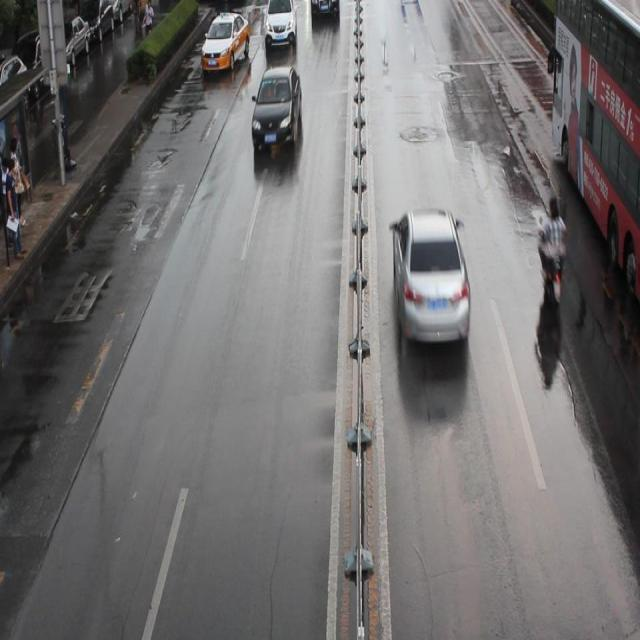car: (389, 206, 470, 344), (251, 65, 301, 152), (200, 10, 250, 73), (263, 1, 296, 52), (310, 1, 340, 19)
van: (549, 1, 640, 305)
